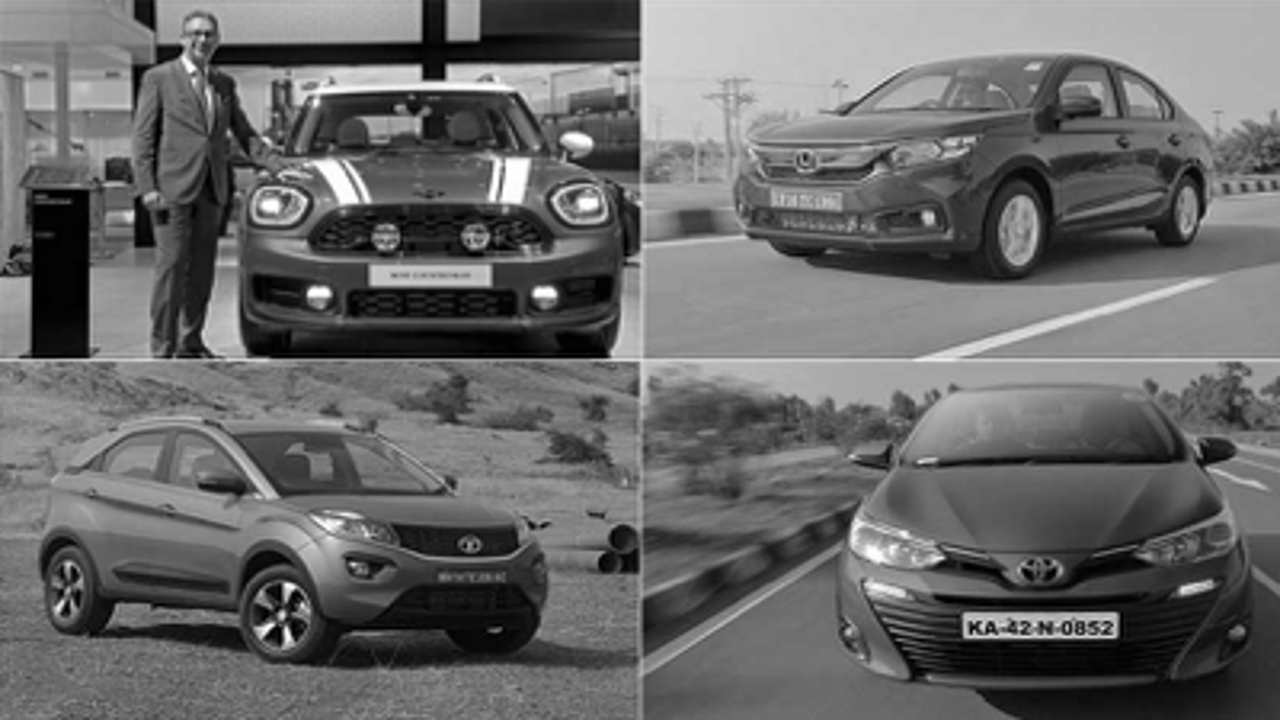license: (358, 252, 502, 297), (956, 606, 1129, 642), (762, 180, 849, 213), (424, 563, 518, 587)
